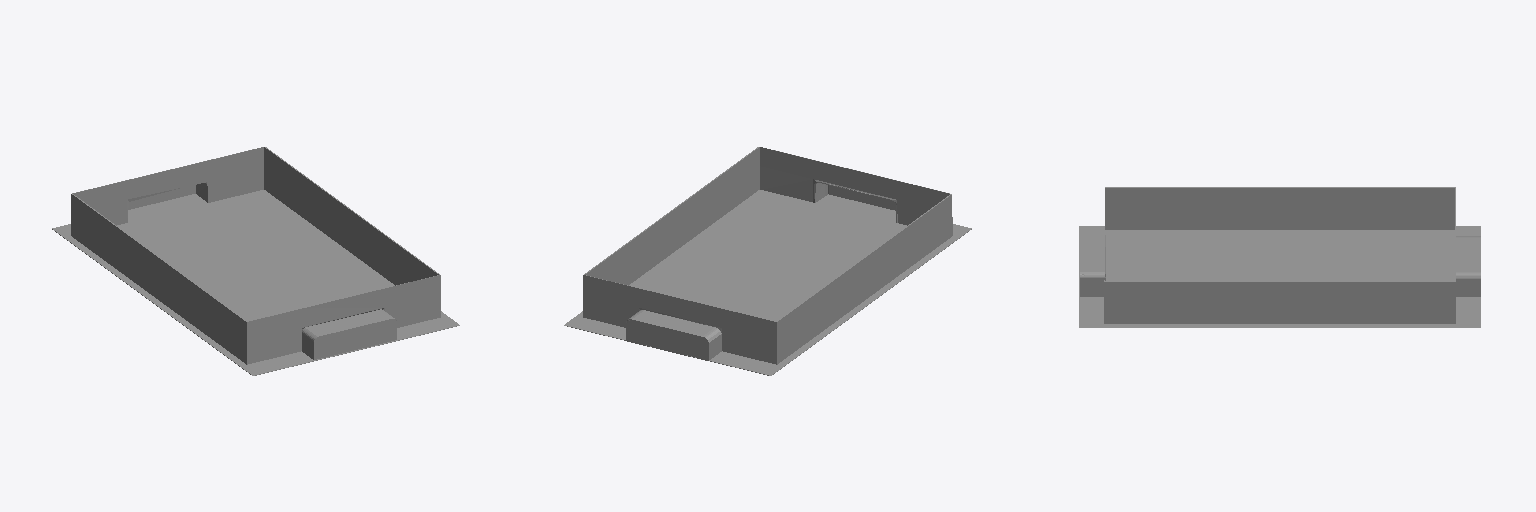
The model's file is NewGroundfinal13.obj.
The picture shows the model from 3 angles: view 1: azimuth 30°, elevation 25°; view 2: azimuth 150°, elevation 25°; view 3: azimuth 270°, elevation 25°; orthographic projection.
Parts seen in each view (by area): view 1: Goal2_Cube.002; view 2: Goal2_Cube.002; view 3: Goal2_Cube.002.
Boxes of the visible parts, box(x1,y1,x2,y2) form: Goal2_Cube.002: box(52, 147, 459, 375); Goal2_Cube.002: box(564, 147, 971, 375); Goal2_Cube.002: box(1079, 187, 1480, 327).
Size of the model in its own units: 15 by 3 by 25.2.